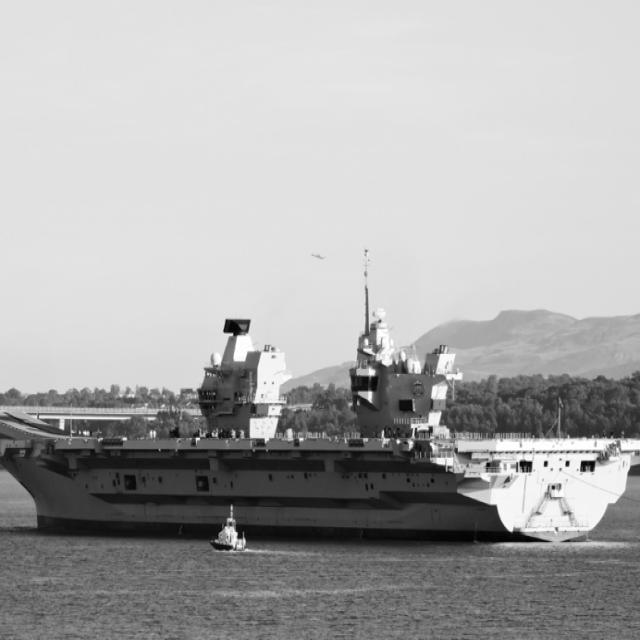Portanaves: (1, 242, 640, 556)
